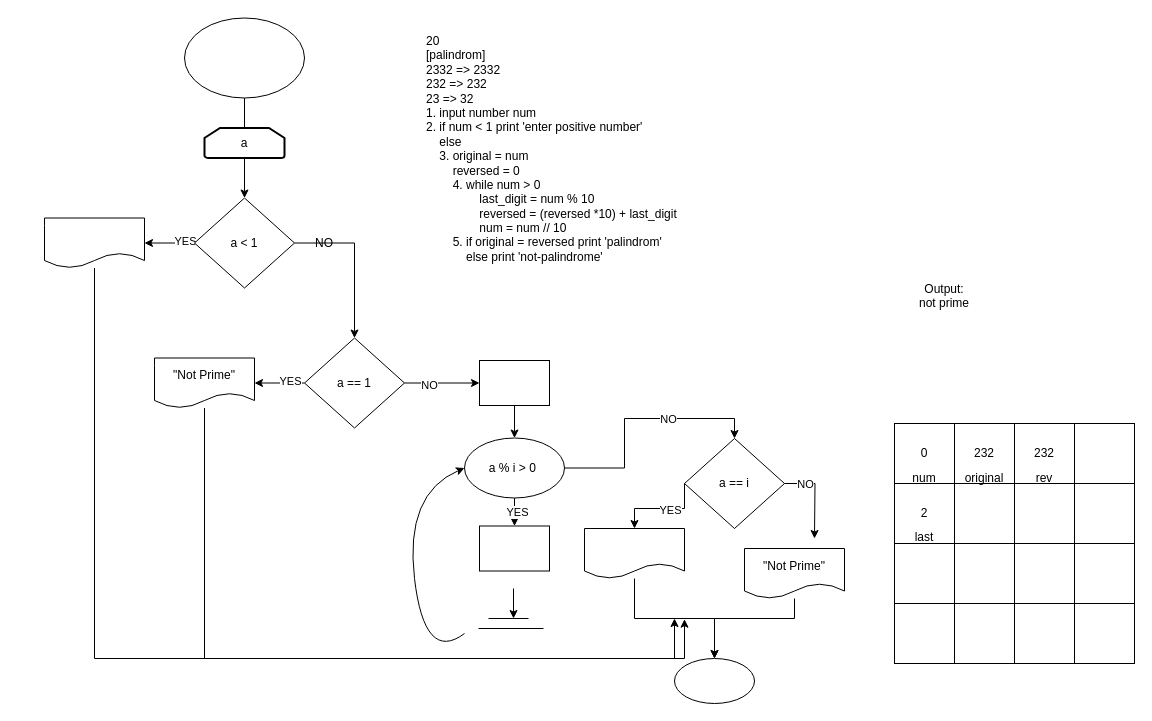
This 1152x721 diagram has some shape labels left out. The shapes that lost their labels are listed below. From the top down, each one's centre as x and y in pixels, then its label:
point (244, 57): START
point (94, 242): "Enter Positive Number"
point (514, 383): i = 2
point (514, 548): i += 1
point (634, 553): "Prime"
point (714, 681): END
